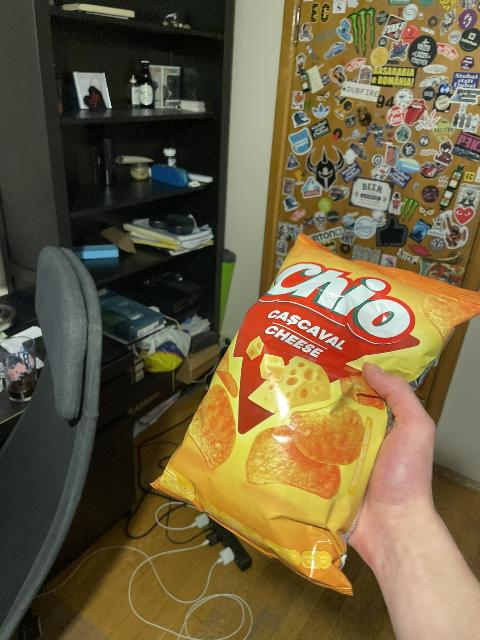Chio Cascaval 125g: (148, 232, 480, 595)
